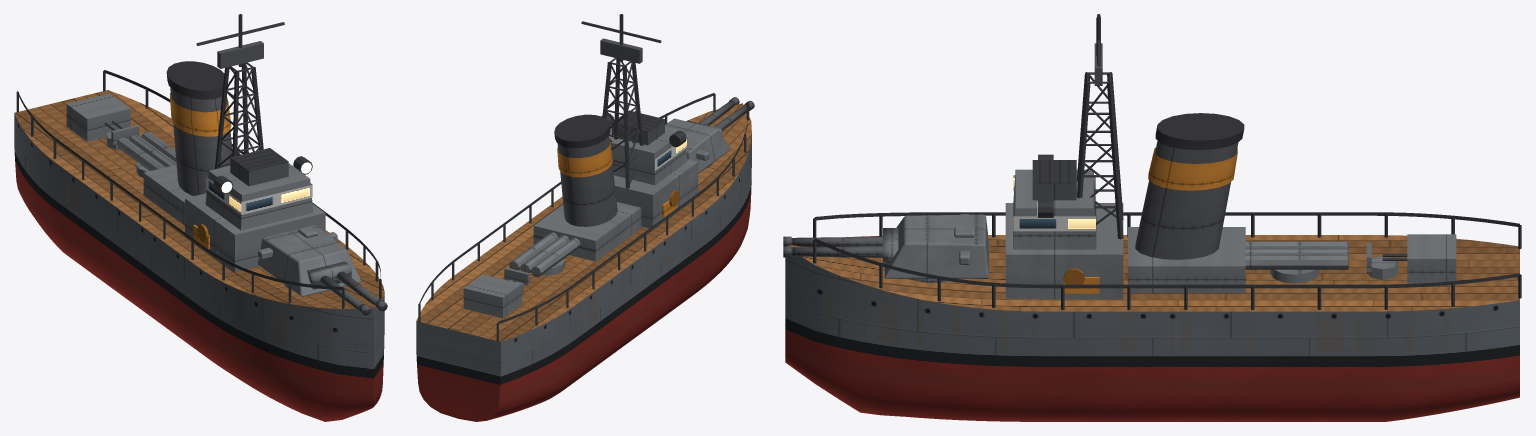
File: destroyer.gltf
The picture shows the model from 3 angles, left to right: view 1: azimuth 30°, elevation 25°; view 2: azimuth 150°, elevation 25°; view 3: azimuth 270°, elevation 25°; orthographic projection. The views are drawn at different scales.
Parts seen in each view (by area): view 1: destroyer_hull, TURRET_A, GUN_A; view 2: destroyer_hull, TURRET_A, GUN_A; view 3: destroyer_hull, TURRET_A, GUN_A.
Part boxes in pixels (bbox=[...]): destroyer_hull: bbox=[14, 14, 384, 421]; TURRET_A: bbox=[257, 225, 361, 296]; GUN_A: bbox=[307, 261, 387, 315]; destroyer_hull: bbox=[416, 14, 751, 421]; TURRET_A: bbox=[665, 118, 730, 173]; GUN_A: bbox=[687, 97, 754, 134]; destroyer_hull: bbox=[785, 14, 1521, 421]; TURRET_A: bbox=[884, 214, 988, 282]; GUN_A: bbox=[783, 228, 898, 264].
Bounding box in the file's own units: 1.85 × 4.38 × 7.54.
Materials: 8 (6 with a texture image).
